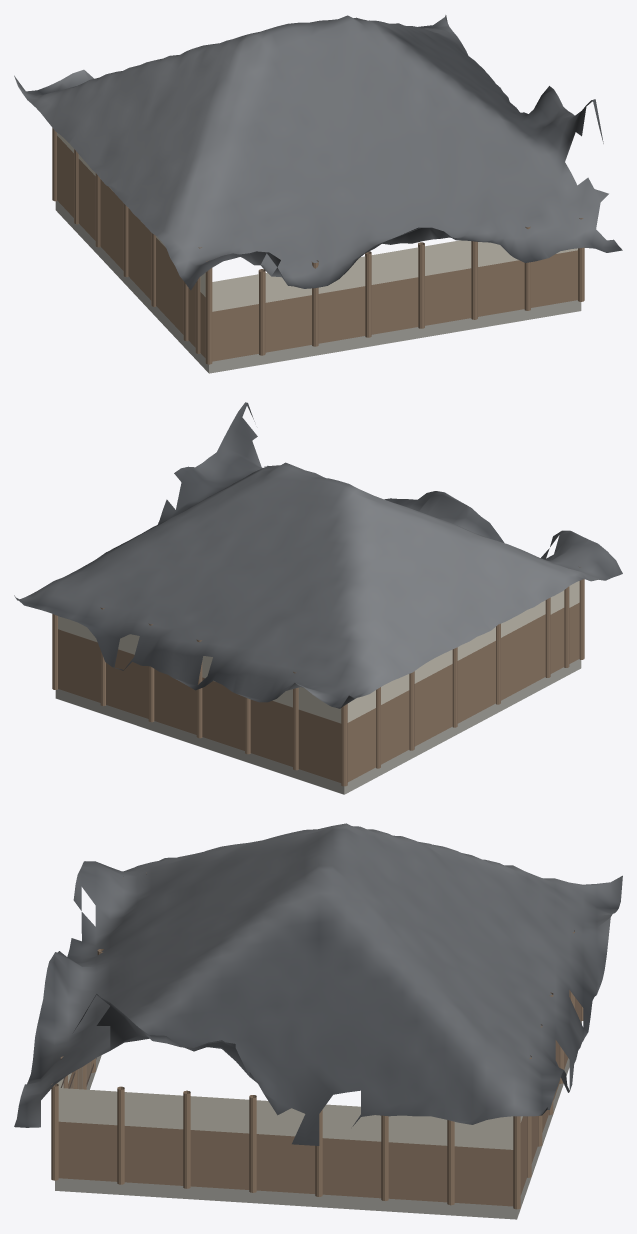
Rendered from eikando-kohojo.glb.
3 renders of one model, top to bottom at view 1: azimuth 30°, elevation 25°; view 2: azimuth 150°, elevation 25°; view 3: azimuth 270°, elevation 25°, orthographic. The views are drawn at different scales.
Visible parts, largest first — view 1: Measured roof, Weathered timber, Lime plaster, Stone footings; view 2: Measured roof, Weathered timber, Stone footings, Lime plaster; view 3: Measured roof, Weathered timber, Lime plaster, Stone footings.
Boxes of the visible parts, x1=… form: Measured roof: x1=14, y1=15, x2=622, y2=290; Weathered timber: x1=52, y1=128, x2=584, y2=364; Lime plaster: x1=57, y1=133, x2=577, y2=311; Stone footings: x1=55, y1=200, x2=581, y2=373; Measured roof: x1=14, y1=402, x2=622, y2=708; Weathered timber: x1=52, y1=567, x2=584, y2=786; Stone footings: x1=55, y1=659, x2=581, y2=794; Lime plaster: x1=58, y1=581, x2=579, y2=723; Measured roof: x1=14, y1=823, x2=622, y2=1145; Weathered timber: x1=51, y1=872, x2=583, y2=1209; Lime plaster: x1=57, y1=1073, x2=522, y2=1149; Stone footings: x1=55, y1=1021, x2=581, y2=1219.
Bounding box in the file's own units: 21.39 × 10.34 × 21.88.
Materials: 6 (1 with a texture image).
